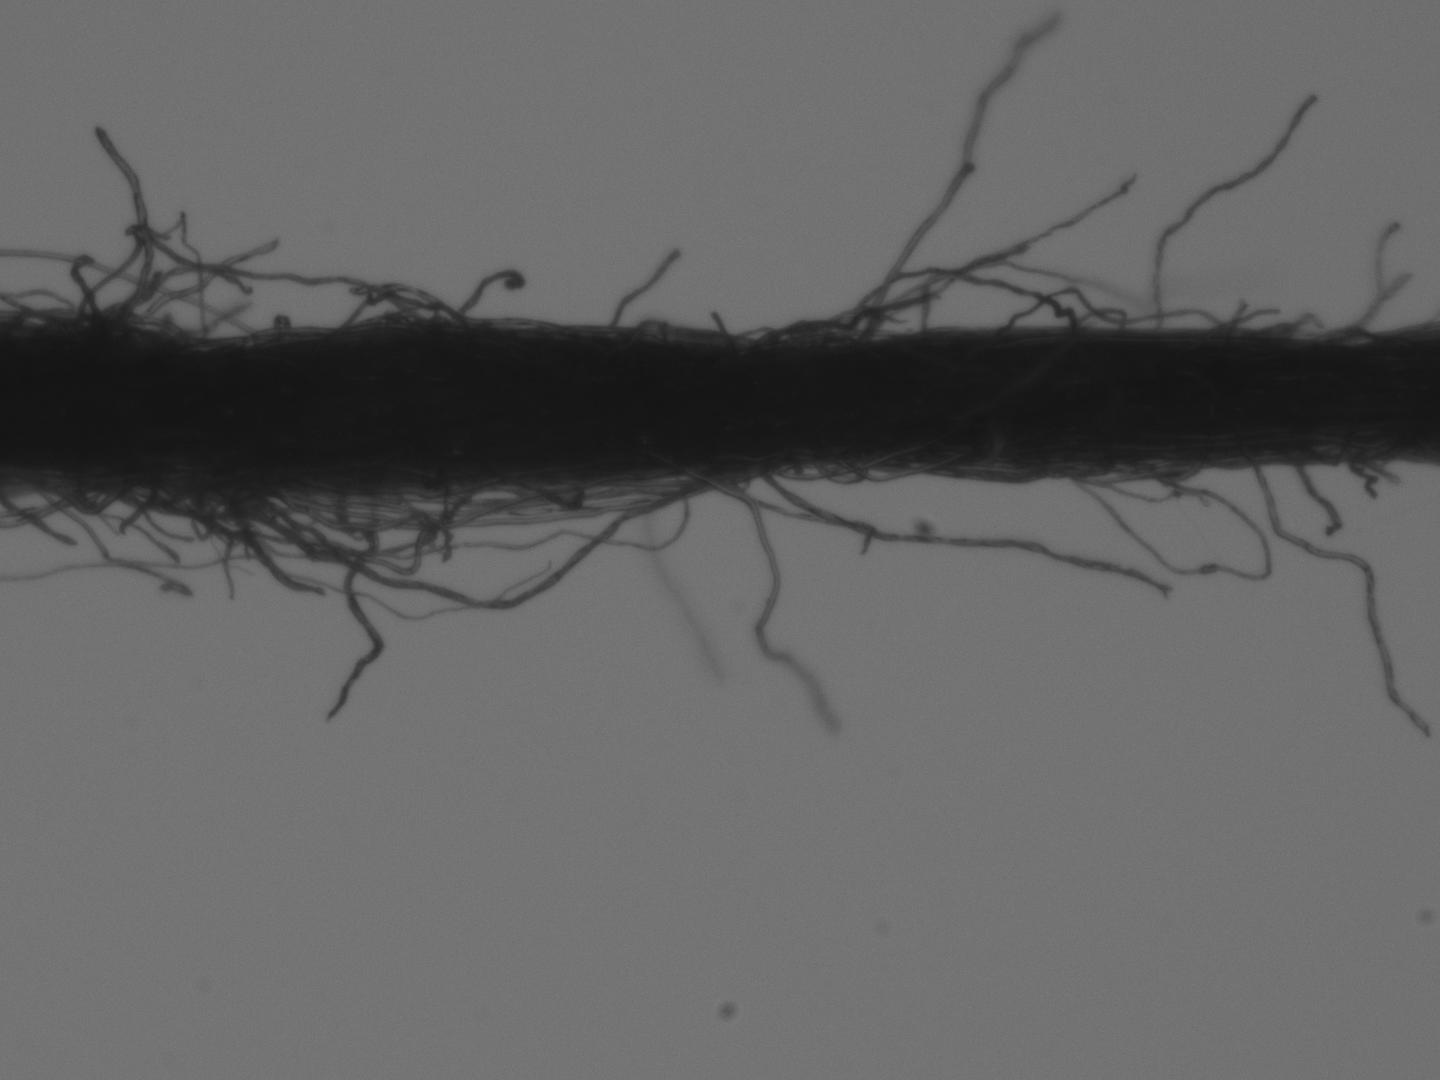loop_fiber: (236, 462, 722, 613), (113, 260, 420, 343), (849, 268, 1081, 337), (999, 285, 1236, 331), (339, 284, 465, 329), (829, 448, 965, 484), (772, 452, 891, 482), (48, 476, 138, 516), (503, 470, 583, 507), (749, 320, 847, 344), (1061, 303, 1132, 327)
protruding_fiber: (845, 7, 1068, 337), (864, 177, 1142, 334), (1150, 90, 1318, 329), (726, 472, 838, 737), (321, 484, 390, 728), (611, 245, 680, 330), (1295, 465, 1340, 538)
